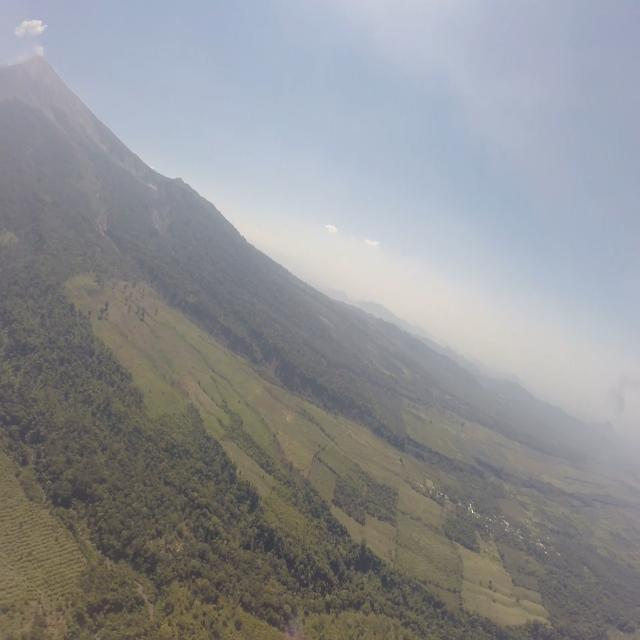Plume: (16, 16, 46, 40)
Summit: (24, 50, 54, 74)
